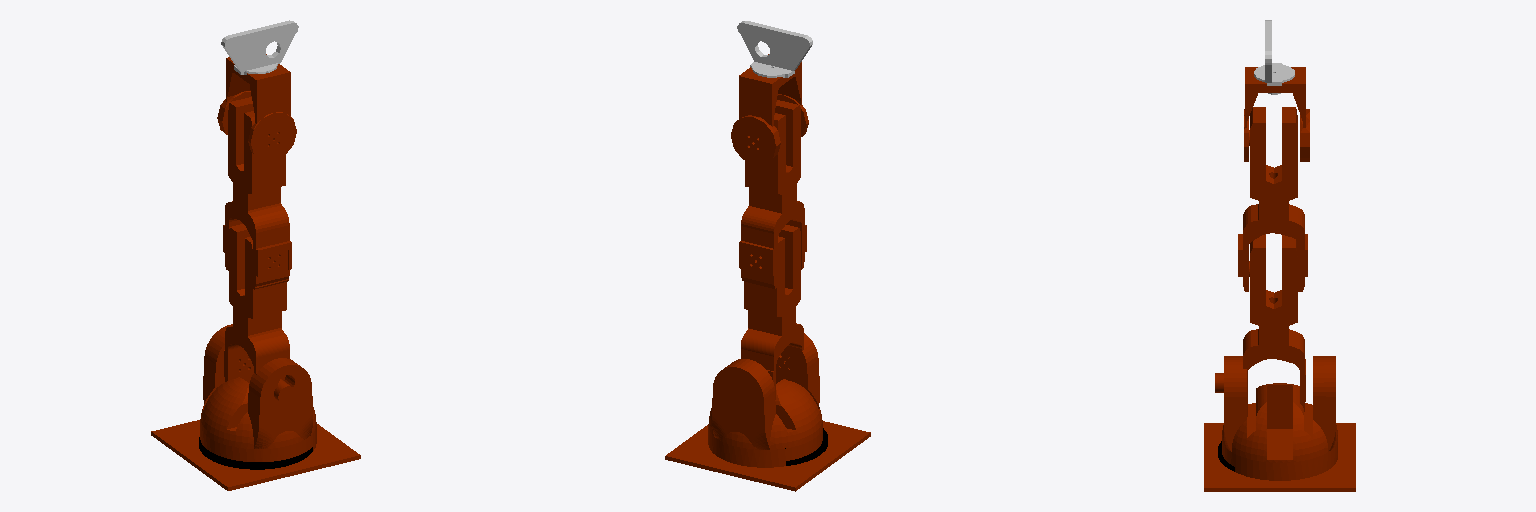
robot.urdf — Braccio:
<?xml version="1.0"?>
<robot name="Braccio">
    <!-- Color de materiales -->
    <material name="orange">
        <color rgba="0.58 0.18 0.0 1" />
    </material>
    <material name="white">
        <color rgba="0.8 0.8 0.8 1.0" />
    </material>
    <material name="black">
        <color rgba="0 0 0 0.50" />
    </material>

    <!--Mascaras para partes del robot-->
    <link name="base_link">
        <visual>
            <geometry>
                <cylinder length="0.01" radius=".053" />
            </geometry>
            <material name="black" />
            <origin rpy="0 0 0" xyz="0 0 0" />
        </visual>
    </link>

    <link name="braccio_base_link">
        <visual>
            <geometry>
                <mesh filename="package://lab2/meshes/braccio_base.stl" scale="0.01 0.01 0.01" />
            </geometry>
            <material name="orange" />
            <origin rpy="0 0 -1.5708" xyz="0 0.004 0" />
        </visual>
    </link>

    <link name="shoulder_link">
        <visual>
            <geometry>
                <mesh filename="package://lab2/meshes/braccio_shoulder.stl" scale="0.01 0.01 0.01" />
            </geometry>
            <material name="orange" />
            <origin rpy="0 0 0" xyz="-0.0045 0.0055 -0.026" />
        </visual>
    </link>

    <link name="elbow_link">
        <visual>
            <geometry>
                <mesh filename="package://lab2/meshes/braccio_elbow.stl" scale="0.01 0.01 0.01" />
            </geometry>
            <material name="orange" />
            <origin rpy="0 0 0" xyz="-0.0045 0.005 -0.025" />
        </visual>
    </link>

    <link name="wrist_pitch_link">
        <visual>
            <geometry>
                <mesh filename="package://lab2/meshes/braccio_wrist_pitch.stl" scale="0.01 0.01 0.01" />
            </geometry>
            <material name="orange" />
            <origin rpy="0 0 0" xyz="0.003 -0.0004 -0.024" />
        </visual>
    </link>

    <link name="wrist_roll_link">
        <visual>
            <geometry>
                <mesh filename="package://lab2/meshes/braccio_wrist_roll.stl" scale="0.01 0.01 0.01" />
            </geometry>
            <material name="white" />
            <origin rpy="0 0 0" xyz="0.006 0 0.0" />
        </visual>
    </link>

    <link name="left_gripper_link">
        <visual>
            <geometry>
                <mesh filename="package://lab2/meshes/braccio_left_gripper.stl" scale="0.001 0.001 0.001" />
            </geometry>
            <material name="white" />
            <origin rpy="0 1.5708 0" xyz="0 -0.012 0" />
        </visual>
    </link>

    <link name="right_gripper_link">
        <visual>
            <geometry>
                <mesh filename="package://lab2/meshes/braccio_right_gripper.stl" scale="0.001 0.001 0.001" />
            </geometry>
            <material name="white" />
            <origin rpy="0 1.5708 0" xyz="0 -0.012 0.010" />
        </visual>
    </link>

    <!--Articulaciones del robot-->

    <joint name="base_joint" type="revolute">
        <axis xyz="0 0 -1" />
        <limit effort="1000.0" lower="0.0" upper="3.1416" velocity="1.0" />
        <origin rpy="0 0 0" xyz="0 0 0" />
        <parent link="base_link" />
        <child link="braccio_base_link" />
    </joint>

    <joint name="shoulder_joint" type="revolute">
        <axis xyz="-1 0 0" />
        <limit effort="1000.0" lower="-1.70" upper="1.70" velocity="1.0" />
        <origin rpy="0 0 -1.5708" xyz="0 -.002 0.072" />
        <parent link="braccio_base_link" />
        <child link="shoulder_link" />
    </joint>

    <joint name="elbow_joint" type="revolute">
        <axis xyz="1 0 0" />
        <limit effort="1000.0" lower="-1.70" upper="1.70" velocity="1.0" />
        <origin rpy="0 0 0" xyz="0 0 0.125" />
        <parent link="shoulder_link" />
        <child link="elbow_link" />
    </joint>

    <joint name="wrist_pitch_joint" type="revolute">
        <axis xyz="1 0 0" />
        <limit effort="1000.0" lower="-1.70" upper="1.70" velocity="1.0" />
        <origin rpy="0 0 0" xyz="0 0 0.125" />
        <parent link="elbow_link" />
        <child link="wrist_pitch_link" />
    </joint>

    <joint name="wrist_roll_joint" type="revolute">
        <axis xyz="0 0 -1" />
        <limit effort="1000.0" lower="0.0" upper="3.1416" velocity="1.0" />
        <origin rpy="0 0 1.5708" xyz="0 0.0 0.06" />
        <parent link="wrist_pitch_link" />
        <child link="wrist_roll_link" />
    </joint>

    <joint name="gripper_joint" type="revolute">
        <axis xyz="0 -1 0" />
        <limit effort="1000.0" lower="0.95" upper="1.54" velocity="1.0" />
        <origin rpy="0 0 0" xyz="0.010 0 0.03" />
        <parent link="wrist_roll_link" />
        <child link="right_gripper_link" />
    </joint>

    <joint name="sub_gripper_joint" type="revolute">
        <axis xyz="0 1 0" />
        <mimic joint="gripper_joint" />
        <limit effort="1000.0" lower="0.95" upper="1.54" velocity="1.0" />
        <origin rpy="0 3.1416 0" xyz="-0.010 0 0.03" />
        <parent link="wrist_roll_link" />
        <child link="left_gripper_link" />
    </joint>
    
    <link name="world"/>
    <joint name="world_joint" type="fixed">
        <parent link="world"/>
        <child link="base_link"/>
        <origin rpy="0.0 0.0 0.0" xyz="0.0 0.0 0.0"/>
    </joint>
    
</robot>

--- What the picture shows (computed from the rendered views, not written in the file) ---
The picture shows the robot from 3 angles, left to right: view 1: azimuth 30°, elevation 25°; view 2: azimuth 150°, elevation 25°; view 3: azimuth 270°, elevation 25°; orthographic projection.
Model Braccio with 9 links and 8 joints (7 revolute, 1 fixed), rooted at world, posed joints at zero except 2 at the middle of their limits (gripper_joint = 1.25, sub_gripper_joint = 1.25).
Visible links, largest first — view 1: braccio_base_link, elbow_link, shoulder_link, wrist_pitch_link, wrist_roll_link, base_link; view 2: braccio_base_link, elbow_link, shoulder_link, wrist_pitch_link, wrist_roll_link; view 3: braccio_base_link, elbow_link, shoulder_link, wrist_pitch_link, wrist_roll_link.
Link boxes in pixels (<box>): braccio_base_link: <box>151,324,360,490</box>; elbow_link: <box>223,97,291,289</box>; shoulder_link: <box>224,224,294,404</box>; wrist_pitch_link: <box>217,54,296,160</box>; wrist_roll_link: <box>221,20,298,74</box>; base_link: <box>199,437,312,469</box>; braccio_base_link: <box>665,333,870,491</box>; elbow_link: <box>739,100,806,288</box>; shoulder_link: <box>741,225,803,399</box>; wrist_pitch_link: <box>731,54,808,164</box>; wrist_roll_link: <box>737,21,812,77</box>; braccio_base_link: <box>1204,356,1355,491</box>; elbow_link: <box>1238,107,1307,291</box>; shoulder_link: <box>1215,234,1305,416</box>; wrist_pitch_link: <box>1244,67,1309,161</box>; wrist_roll_link: <box>1254,20,1294,94</box>.
Size in the robot's own frame: 0.14 by 0.14 by 0.4273 metres.
5 mesh visuals loaded from 7 distinct referenced files (5 binary STL); not drawn: 2 (reference not matched to a file when rendering).